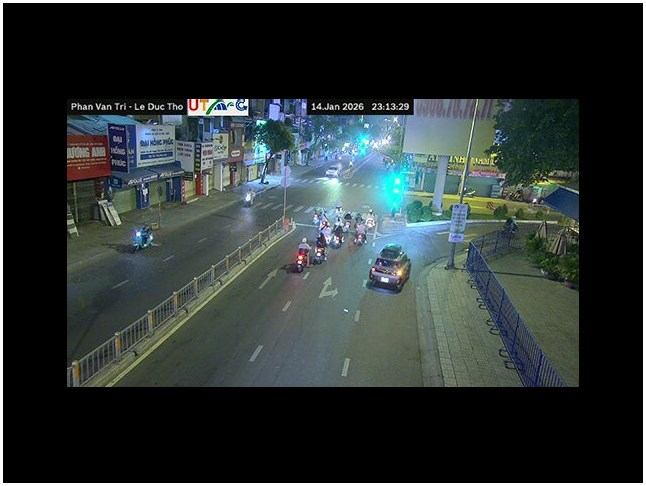car: (366, 244, 412, 292)
